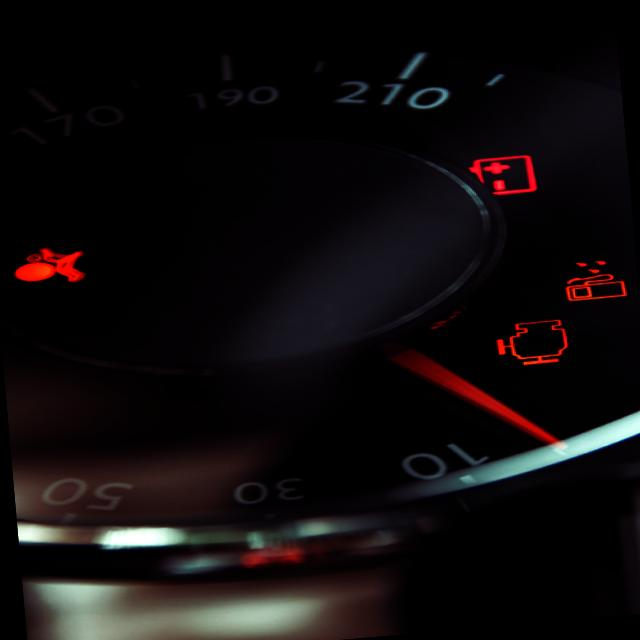kontrolka: (485, 310, 582, 374), (0, 237, 101, 292), (454, 144, 546, 204), (556, 268, 634, 306)
